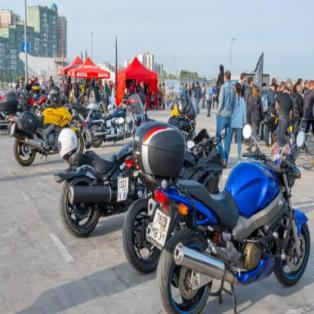Motocicleta: (141, 140, 313, 314)
